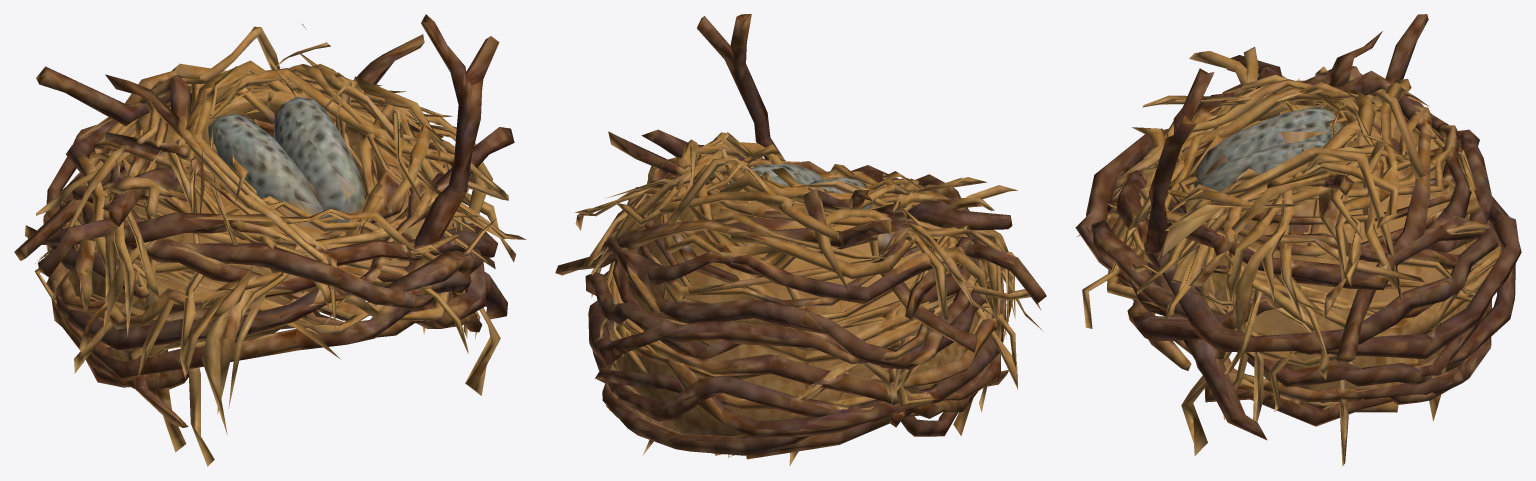
File: HatNest.fbx
3 views of the same model, side by side, from view 1: azimuth 30°, elevation 25°; view 2: azimuth 150°, elevation 25°; view 3: azimuth 270°, elevation 25° (orthographic). The views are drawn at different scales.
Parts seen in each view (by area): view 1: Mesh_0; view 2: Mesh_0; view 3: Mesh_0.
Boxes of the visible parts, box(x1,y1,x2,y2) form: Mesh_0: box(14, 14, 526, 466); Mesh_0: box(555, 14, 1046, 466); Mesh_0: box(1075, 14, 1521, 466).
Bounding box in the file's own units: 95.19 × 73.72 × 81.69.
1 material, 1 textured.
